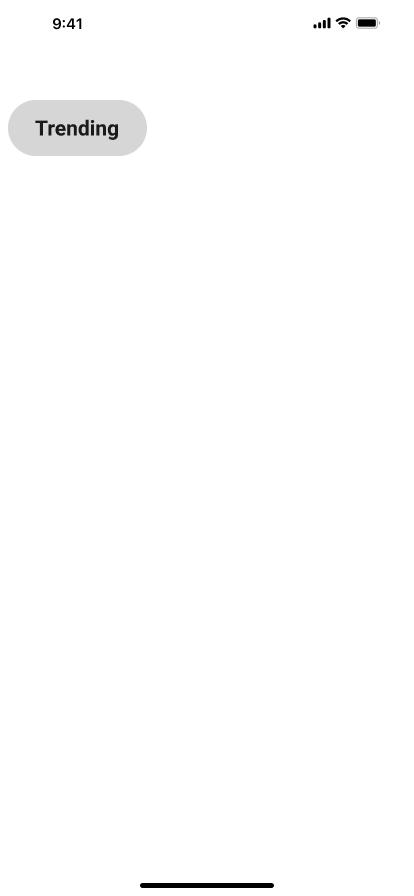Buttons: (8, 100, 155, 156)
Home Indicator: (0, 862, 414, 896)
Status Bar: (0, 0, 414, 44)
